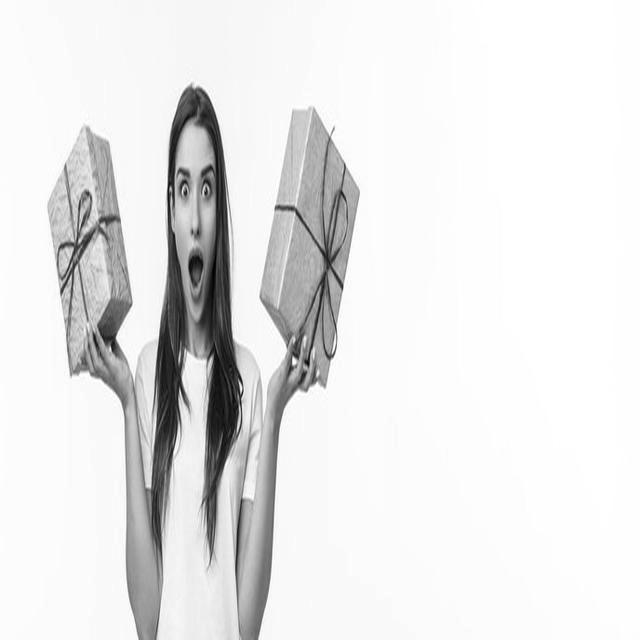Surprised: (174, 124, 216, 323)
